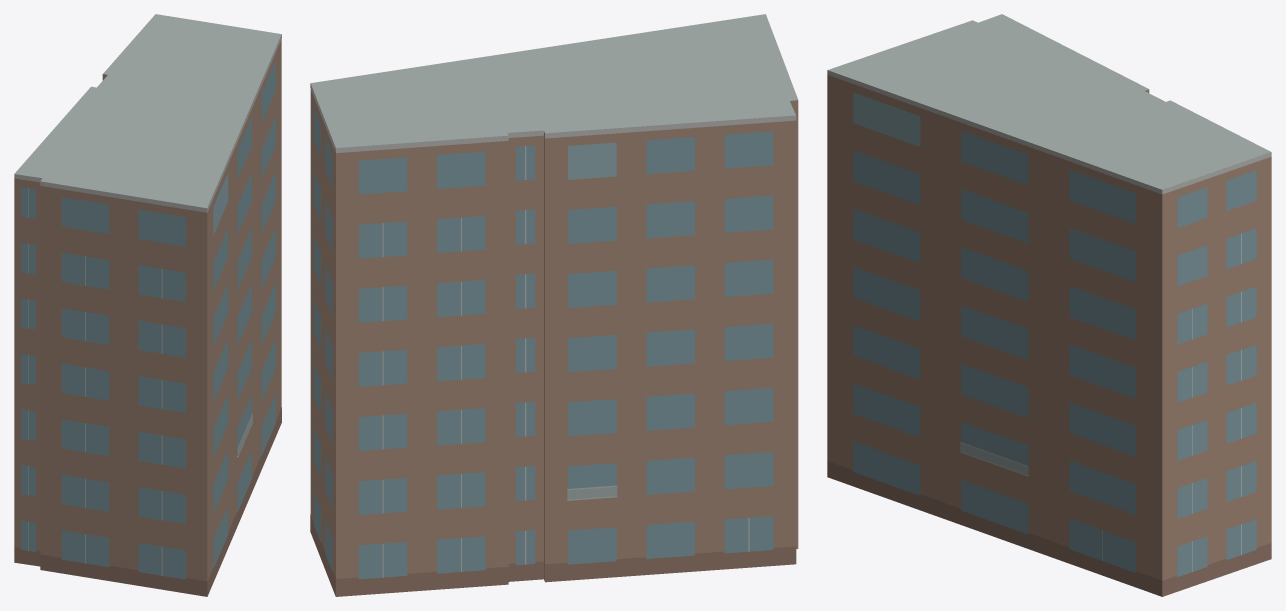
The model's file is survey-upis-32560955.glb.
3 views of the same model, side by side, from view 1: azimuth 30°, elevation 25°; view 2: azimuth 150°, elevation 25°; view 3: azimuth 270°, elevation 25° (orthographic). The views are drawn at different scales.
Visible parts, largest first — view 1: survey-upis-32560955.tmp; view 2: survey-upis-32560955.tmp; view 3: survey-upis-32560955.tmp.
Part boxes in pixels (x1,y1,x2,y2): survey-upis-32560955.tmp: (14, 14, 281, 596); survey-upis-32560955.tmp: (310, 14, 798, 596); survey-upis-32560955.tmp: (827, 14, 1271, 596).
Bounding box in the file's own units: 19.79 × 21.35 × 21.12.
